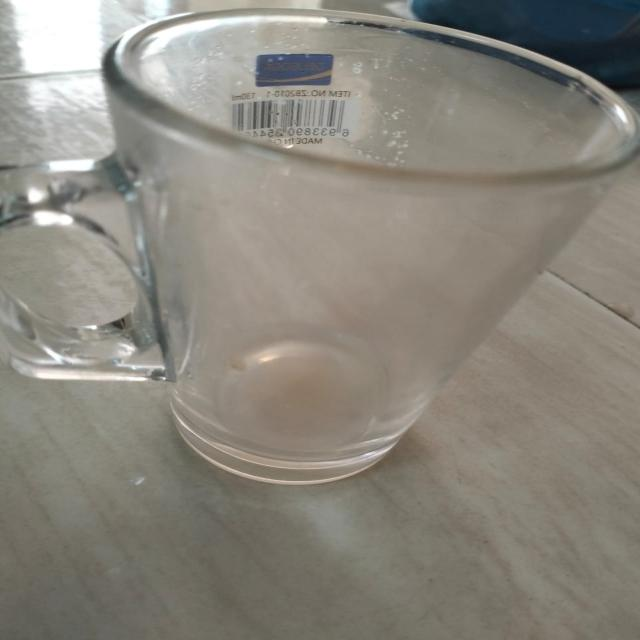glass-VX4N: (5, 9, 640, 475)
